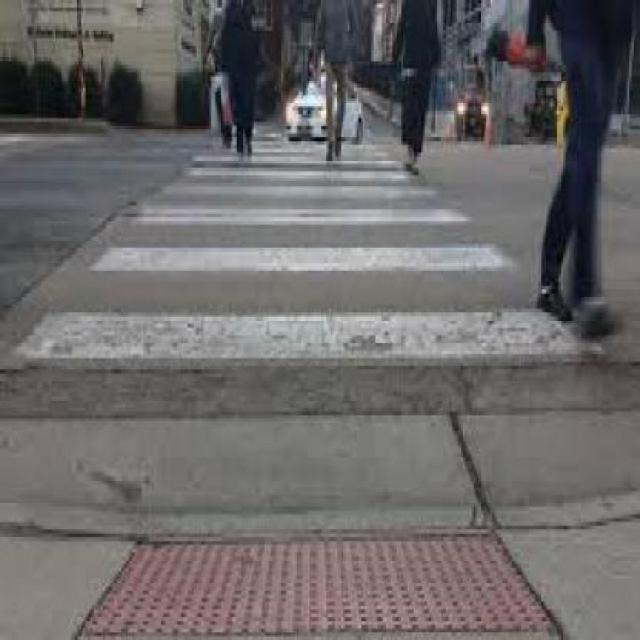crosswalk: (9, 141, 608, 360)
